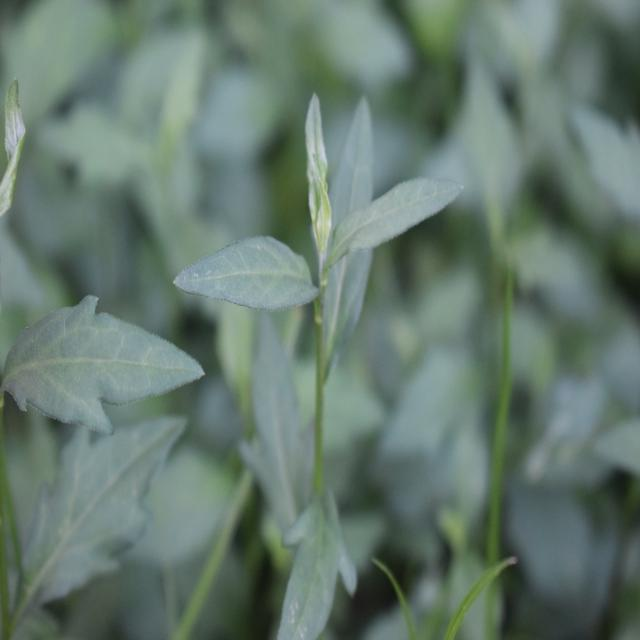Indian aster: (221, 85, 440, 614), (0, 281, 194, 635)
